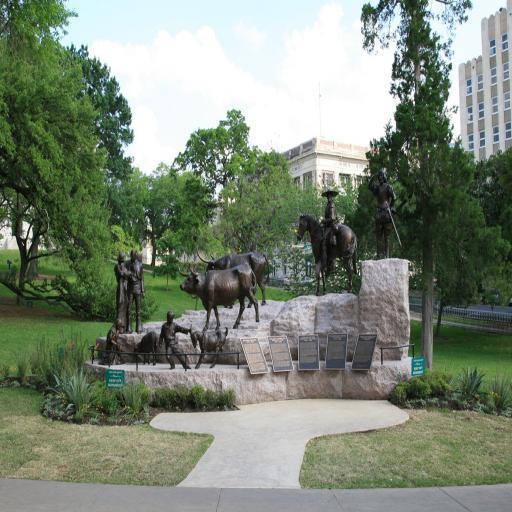horse: (296, 210, 360, 294)
